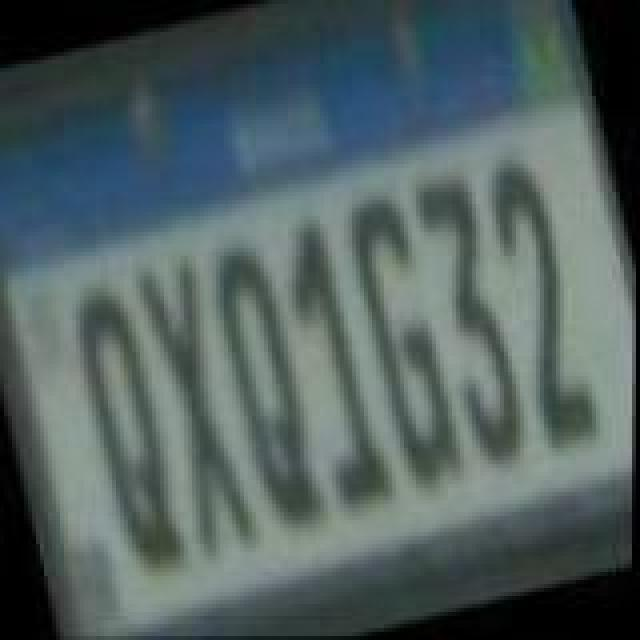1: (270, 214, 402, 518)
2: (474, 154, 606, 454)
3: (410, 172, 542, 476)
G: (336, 186, 472, 494)
Q: (204, 244, 336, 536), (68, 290, 196, 582)
X: (130, 252, 266, 564)
